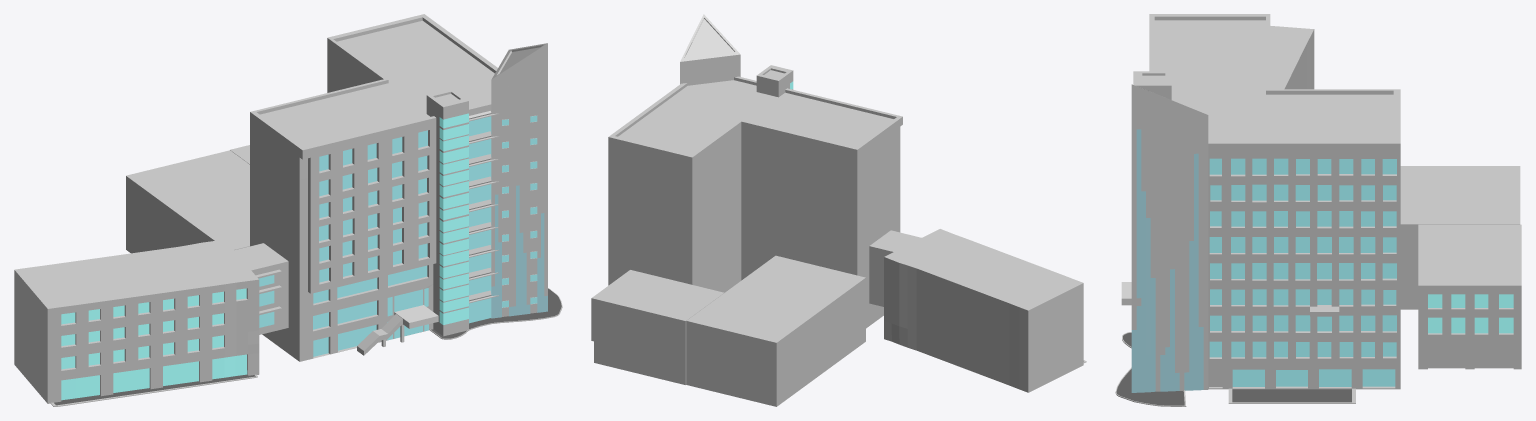
Rendered from Building_Jouhou.fbx.
3 renders of one model, left to right at view 1: azimuth 30°, elevation 25°; view 2: azimuth 150°, elevation 25°; view 3: azimuth 270°, elevation 25°, orthographic. The views are drawn at different scales.
Visible parts, largest first — view 1: Cube, 立方体.001, 立方体.003, 立方体.005, 立方体.004, 立方体, 立方体.008, 立方体.007, 立方体.010, 立方体.009; view 2: Cube, 立方体.001, 立方体.005, 立方体.002, 立方体.003, 立方体, 立方体.004; view 3: Cube, 立方体.003, 立方体.002, 立方体.005, 立方体.001, 立方体.006, 立方体.007, 立方体.004.
Part boxes in pixels (x1,y1,x2,y2): Cube: [250, 14, 499, 361]; 立方体.001: [14, 239, 259, 403]; 立方体.003: [491, 43, 547, 318]; 立方体.005: [126, 150, 249, 253]; 立方体.004: [426, 89, 468, 336]; 立方体: [234, 243, 288, 334]; 立方体.008: [50, 374, 257, 406]; 立方体.007: [430, 288, 562, 339]; 立方体.010: [357, 314, 402, 355]; 立方体.009: [394, 305, 438, 328]; Cube: [608, 76, 902, 328]; 立方体.001: [884, 229, 1083, 392]; 立方体.005: [686, 255, 865, 406]; 立方体.002: [591, 270, 724, 384]; 立方体.003: [680, 14, 740, 85]; 立方体: [869, 230, 921, 306]; 立方体.004: [756, 65, 793, 97]; Cube: [1149, 14, 1400, 389]; 立方体.003: [1131, 84, 1208, 392]; 立方体.002: [1418, 224, 1521, 369]; 立方体.005: [1400, 166, 1520, 309]; 立方体.001: [1270, 26, 1314, 89]; 立方体.006: [1228, 388, 1355, 403]; 立方体.007: [1115, 332, 1186, 406]; 立方体.004: [1133, 71, 1171, 99].
Size of the model in its own units: 82.65 by 43.14 by 51.18.
